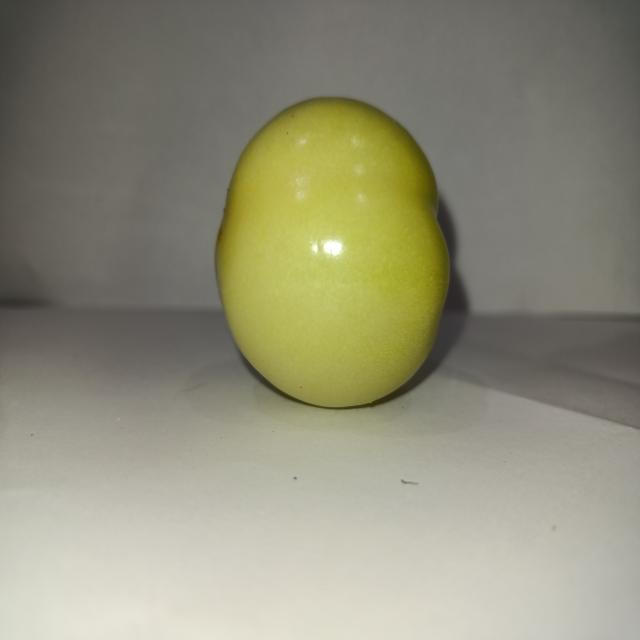Red: (213, 94, 452, 409)
